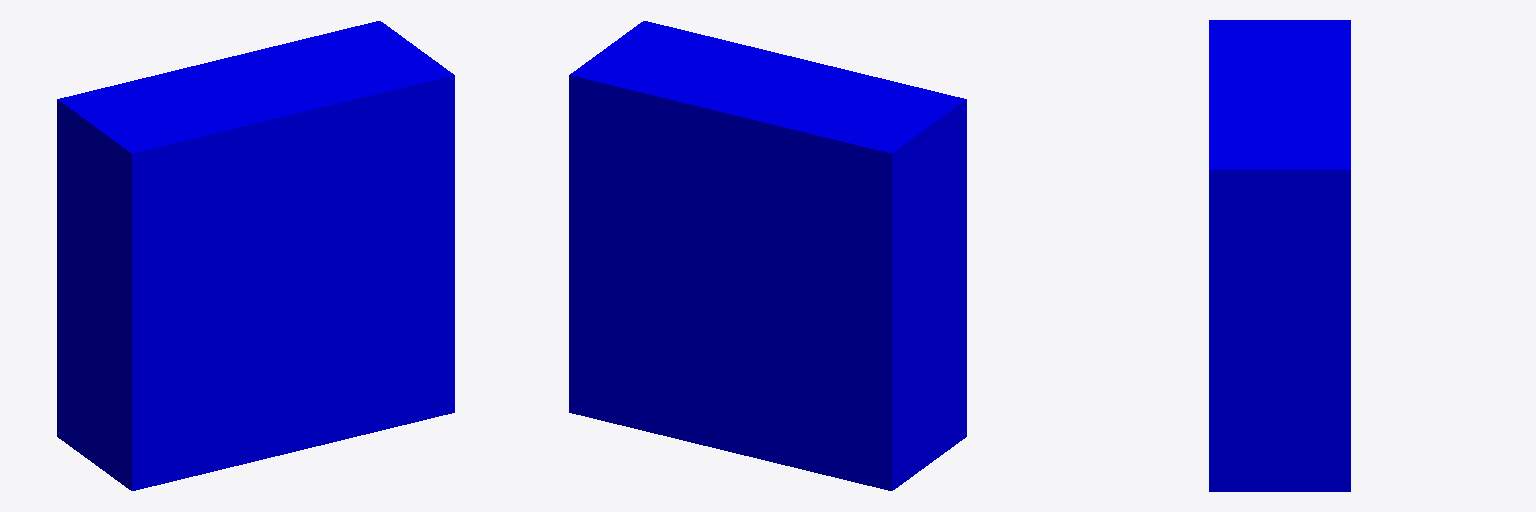
URDF robot description (plate1):
<?xml version="1.0" ?>
<robot name="plate1">
  <link concave="no" name="plateLink1">
  <contact>
      <lateral_friction value="2"/>
  </contact>
    <inertial>
      <origin rpy="0 0 0" xyz="0.25 0.18 0"/>
       <mass value=".0"/>
       <inertia ixx="0" ixy="0" ixz="0" iyy="0" iyz="0" izz="0"/>
    </inertial>
    <visual>
      <origin rpy="0 0 0" xyz="0.25 0.18 0"/>
      <geometry>
      	<box size="0.5 0.2 0.5"/>
      </geometry>
       <material name="blue">
        <color rgba="0 0 1 0.7"/>
      </material>
    </visual>
    <collision concave="no">
      <origin rpy="0 0 0" xyz="0.25 0.18 0"/>
      <geometry>
      	<box size="0.5 0.2 0.5"/>
      </geometry>
    </collision>
  </link>
</robot>

--- What the picture shows (computed from the rendered views, not written in the file) ---
The picture shows the robot from 3 angles, left to right: view 1: azimuth 30°, elevation 25°; view 2: azimuth 150°, elevation 25°; view 3: azimuth 270°, elevation 25°; orthographic projection.
Robot: plate1 — 1 links, 0 joints (none); root link plateLink1; default pose: all joints at 0.
Links seen in each view (by area): view 1: plateLink1; view 2: plateLink1; view 3: plateLink1.
Link boxes in pixels (<box>): plateLink1: <box>57,21,454,490</box>; plateLink1: <box>569,21,966,490</box>; plateLink1: <box>1209,20,1350,491</box>.
Size in the robot's own frame: 0.5 by 0.2 by 0.5 metres.
Geometry: primitives only (box / cylinder / sphere), no mesh files.